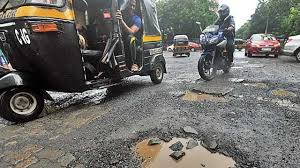pothole: (119, 124, 252, 168), (175, 84, 236, 111), (266, 86, 298, 100)
